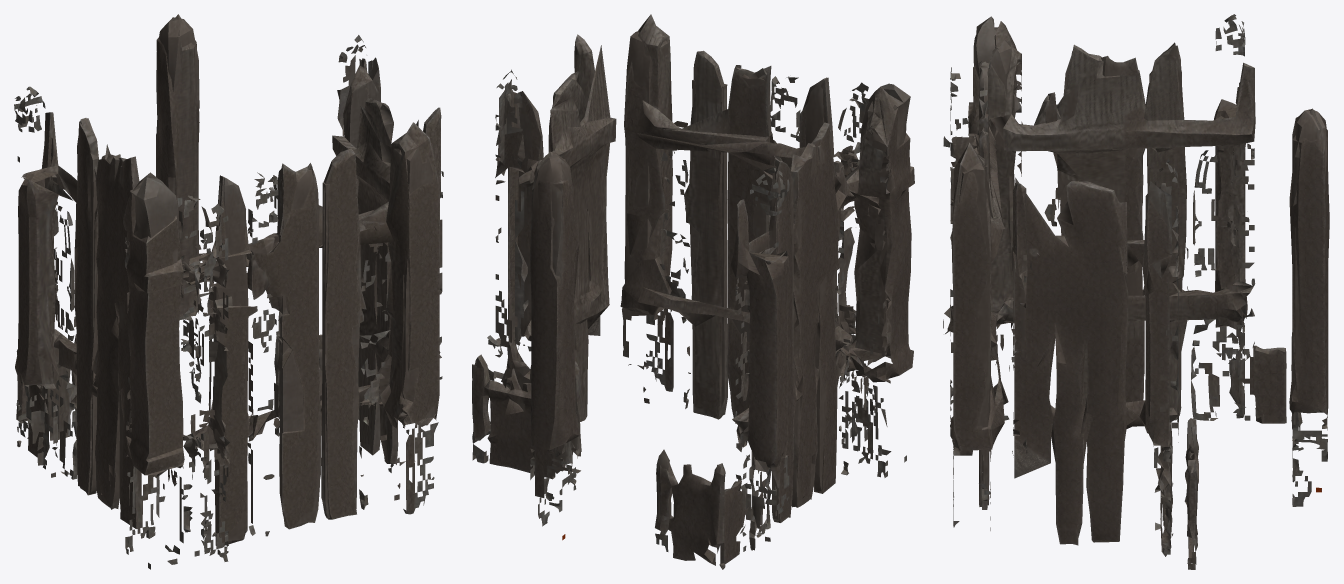
Rendered from ok-fence-corner-v3-meshy.glb.
3 views of the same model, side by side, from view 1: azimuth 30°, elevation 25°; view 2: azimuth 150°, elevation 25°; view 3: azimuth 270°, elevation 25° (orthographic). The views are drawn at different scales.
Size of the model in its own units: 1.69 by 1.88 by 1.65.
Materials: 1 (1 with a texture image).
